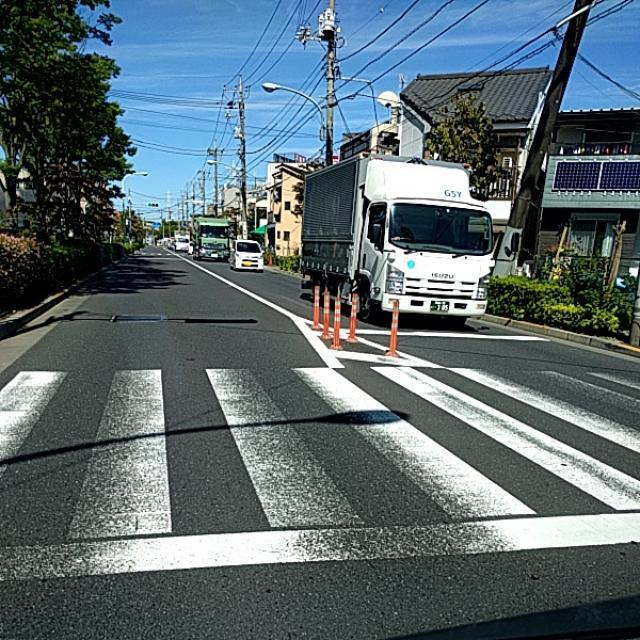pothole: (266, 484, 364, 557)
